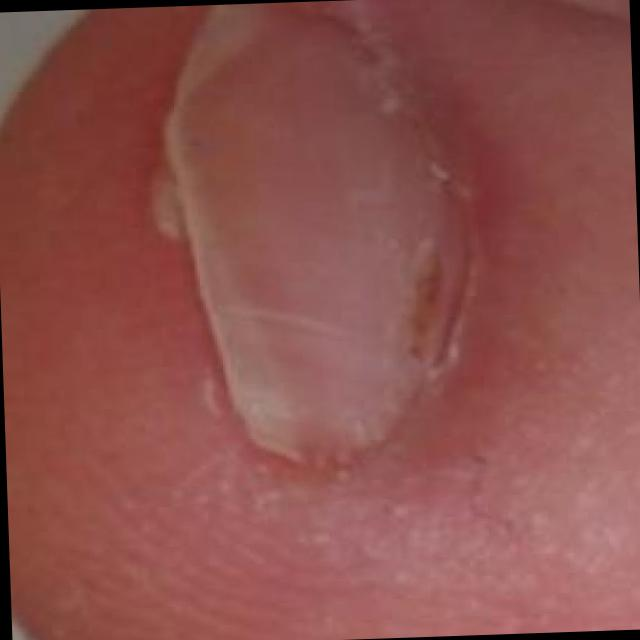Nail: (158, 3, 455, 456)
